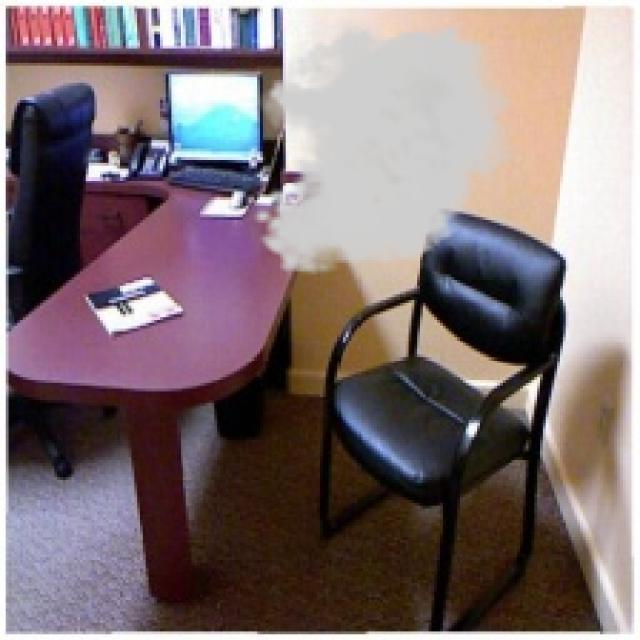Smoke: (251, 9, 526, 278)
